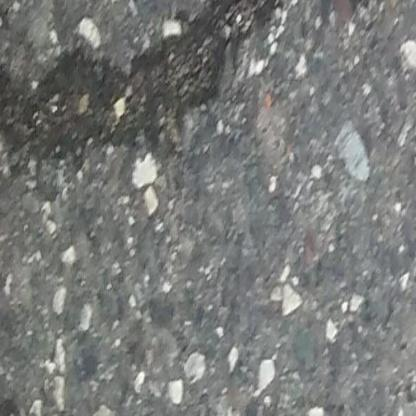Cracks: (0, 0, 291, 165)
